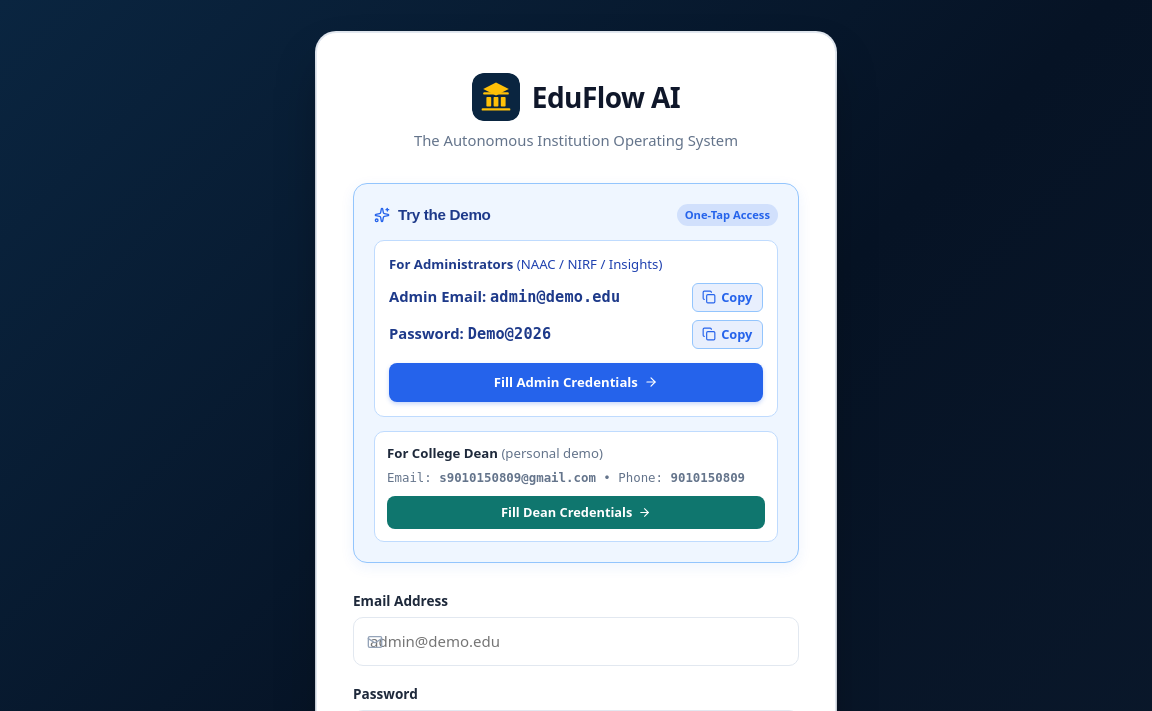
Test: LoginPage Component in components/__tests__ › renders login form and populates demo credentials
Click the button "Fill Admin Credentials" at (576, 382), box [389,363,763,402]
(page scrolled)
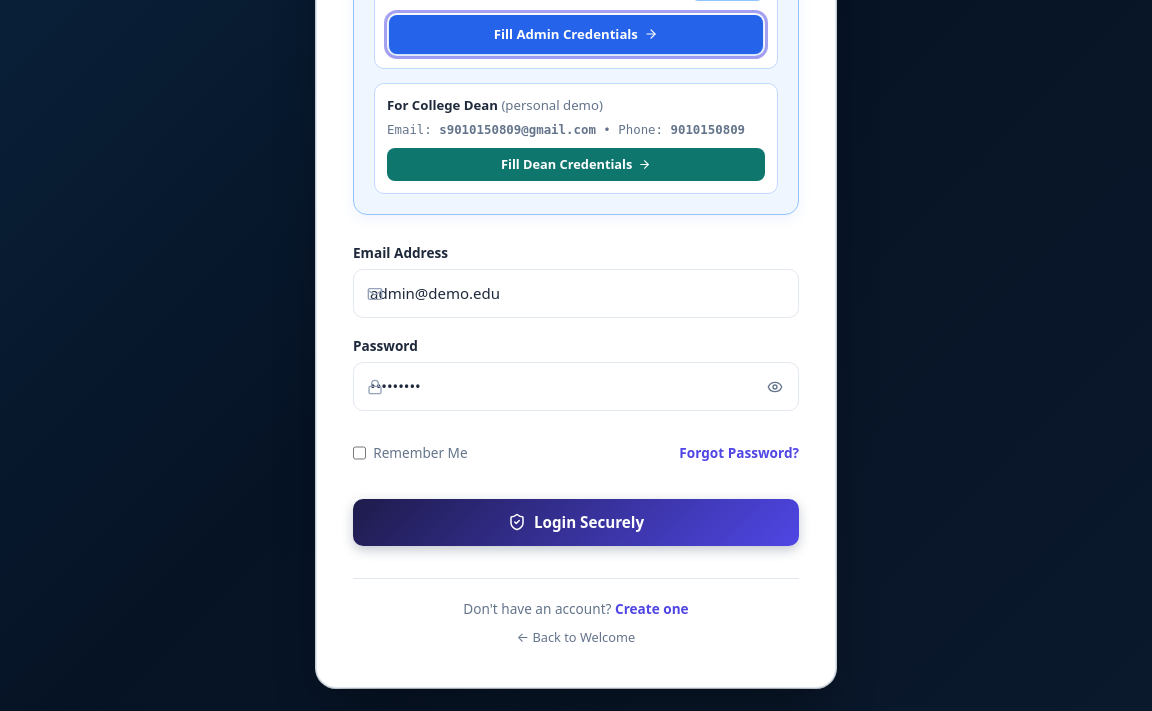
Check: the field labelled "Email Address" holds "admin@demo.edu", box [353,270,799,318]
Check: the password field labelled "Password" holds "Demo@2026", box [353,362,799,411]
